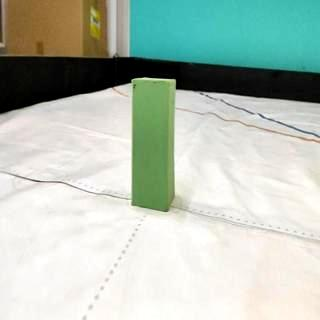greenbox: (133, 77, 174, 213)
